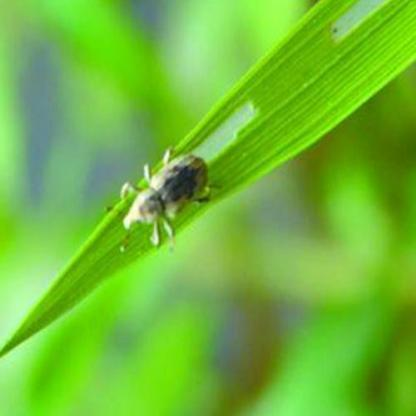rice-bug: (120, 145, 208, 245)
